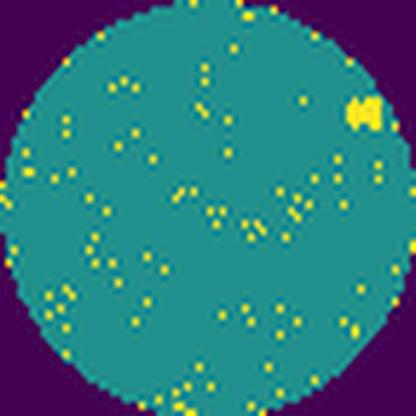Loc: (346, 92, 386, 130)
